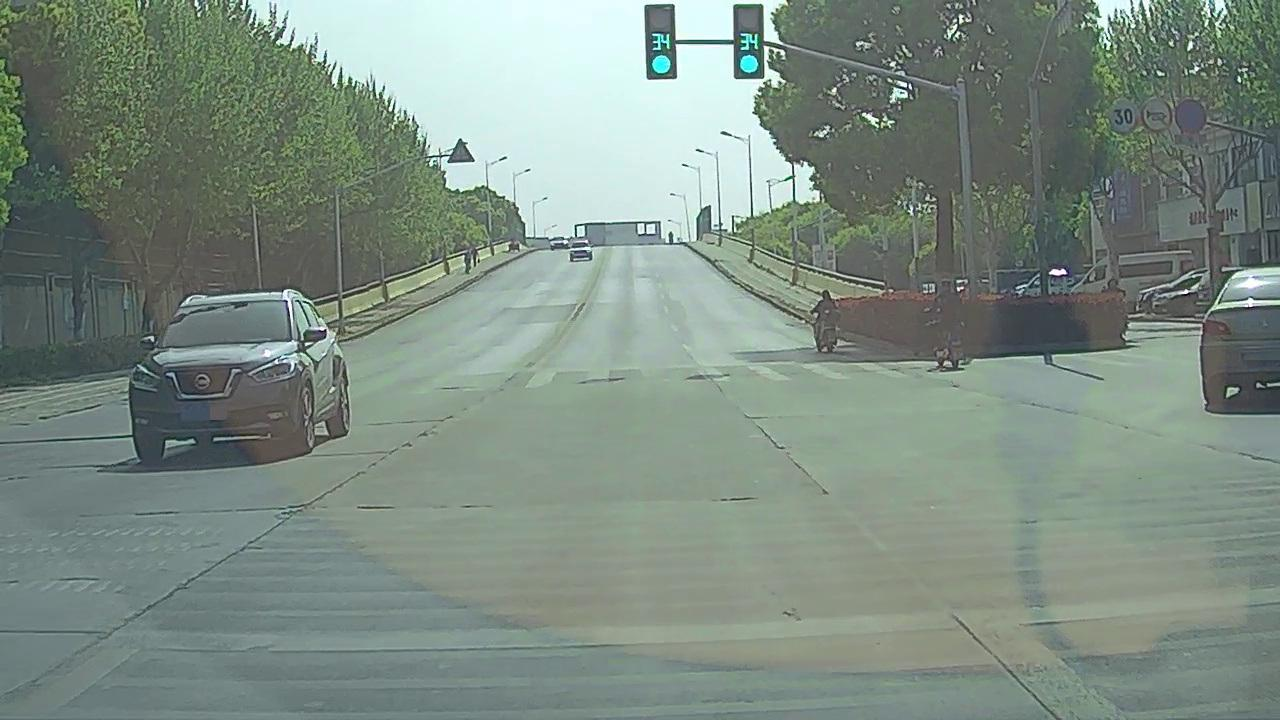traffic_light: (645, 5, 676, 78), (735, 7, 763, 79)
